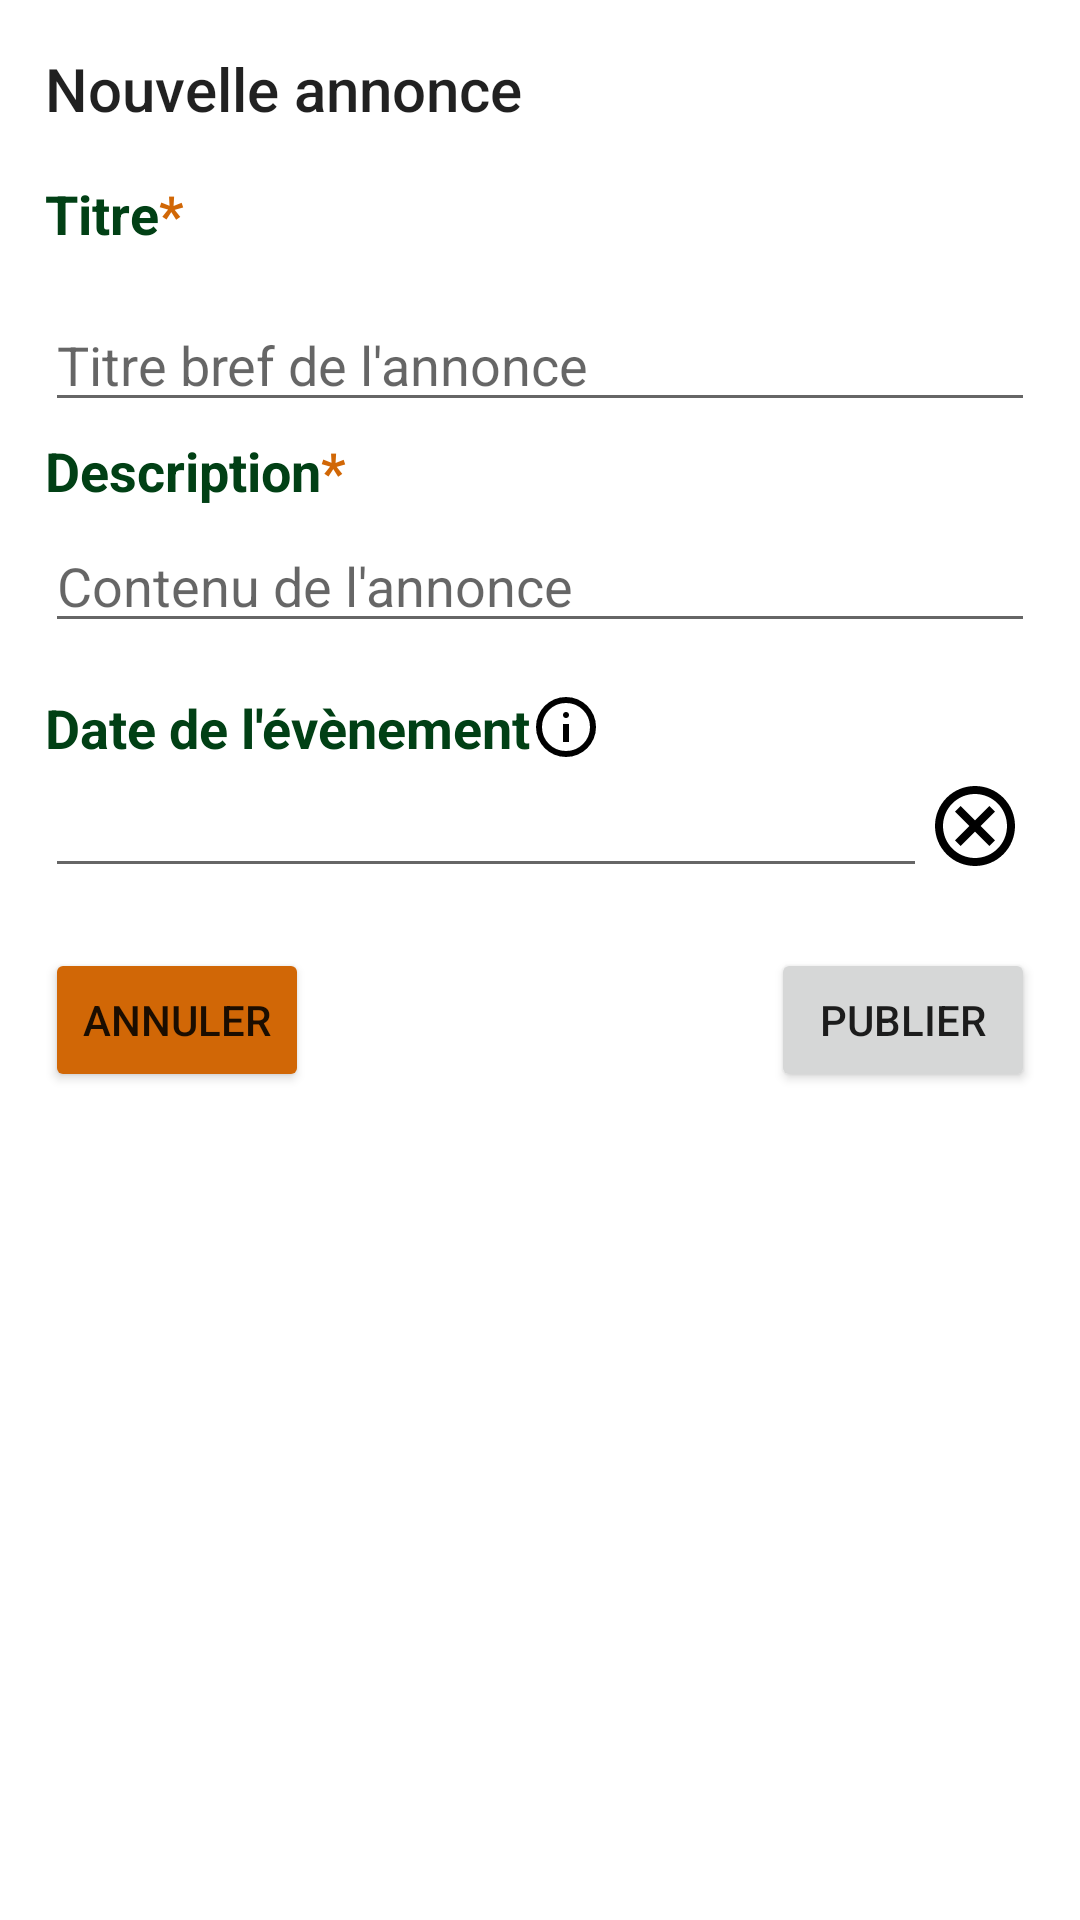

Icons on this 1080px x 1920px Android screen, each with the point to tap as point (x, y):
The button to clear the date input: point (975, 826)
